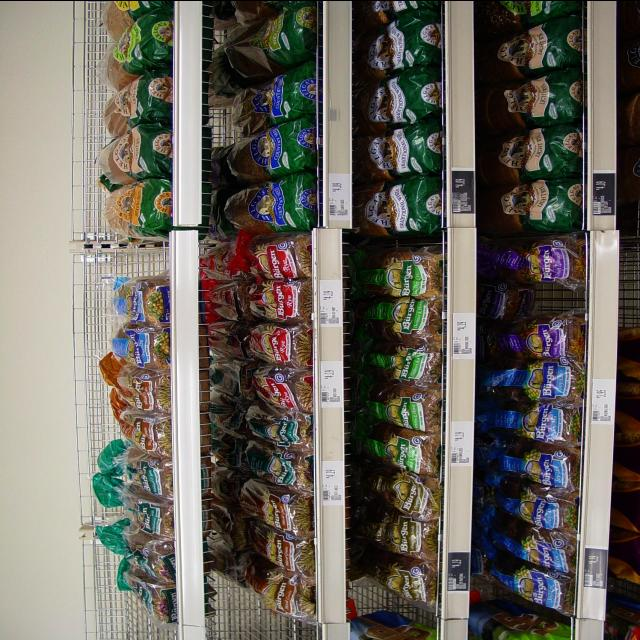empty_space: (220, 573, 304, 640), (110, 593, 171, 636), (112, 250, 172, 275)
